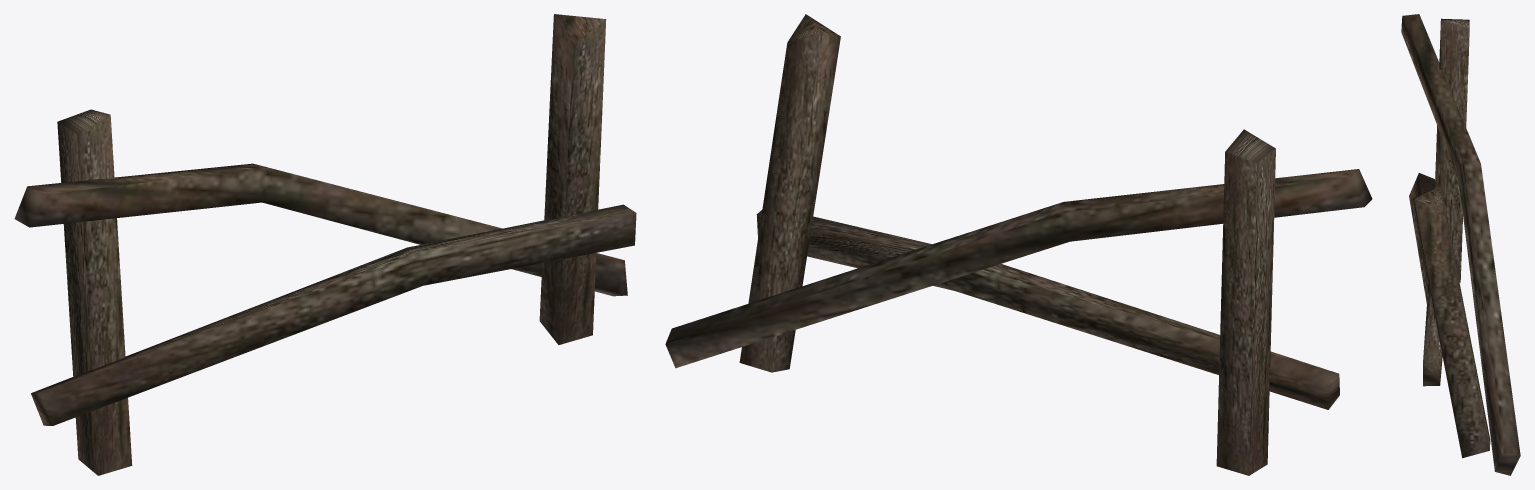
Rendered from OW_LOB_FENCE_V2.glb.
3 views of the same model, side by side, from view 1: azimuth 30°, elevation 25°; view 2: azimuth 150°, elevation 25°; view 3: azimuth 270°, elevation 25° (orthographic). The views are drawn at different scales.
Parts seen in each view (by area): view 1: Mesh; view 2: Mesh; view 3: Mesh.
Boxes of the visible parts, x1=… form: Mesh: x1=14, y1=14, x2=636, y2=475; Mesh: x1=665, y1=14, x2=1372, y2=475; Mesh: x1=1401, y1=14, x2=1520, y2=475.
Size of the model in its own units: 3.15 by 1.59 by 0.6629.
1 material, 1 textured.
